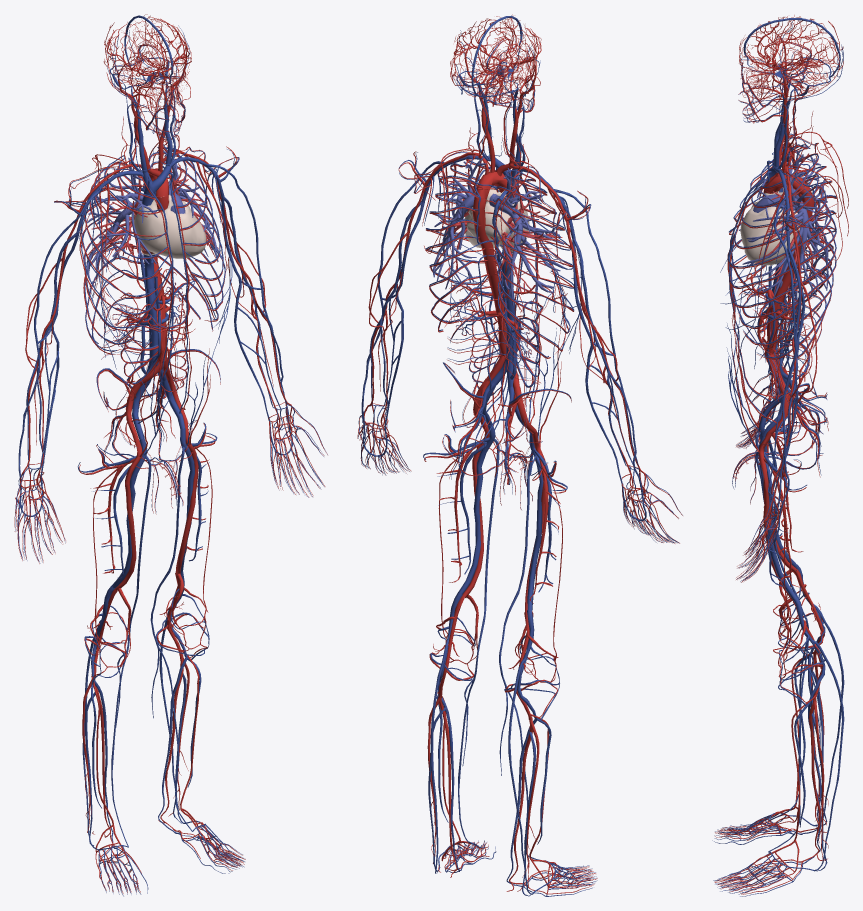
File: adult_male.cardiovascular.LOD3.glb
The picture shows the model from 3 angles, left to right: view 1: azimuth 30°, elevation 25°; view 2: azimuth 150°, elevation 25°; view 3: azimuth 270°, elevation 25°; orthographic projection. The views are drawn at different scales.
Parts seen in each view (by area): view 1: ADULT.MALE.CARDIOVASCULAR.PERICARDIUM, ADULT.MALE.CARDIOVASCULAR.RIGHT_SUPERIOR_INTERCOSTAL_VEIN, ADULT.MALE.CARDIOVASCULAR.POSTERIOR_INTERCOSTAL_ARTERIES.R, ADULT.MALE.CARDIOVASCULAR.LEFT_SUPERIOR_INTERCOSTAL_VEIN, ADULT.MALE.CARDIOVASCULAR.GREAT_SAPHENOUS_VEIN.L, ADULT.MALE.CARDIOVASCULAR.GREAT_SAPHENOUS_VEIN.R, ADULT.MALE.CARDIOVASCULAR.FEMORAL_ARTERY.R, ADULT.MALE.CARDIOVASCULAR.POSTERIOR_INTERCOSTAL_ARTERIES.L, ADULT.MALE.CARDIOVASCULAR.CEPHALIC_VEIN.R, ADULT.MALE.CARDIOVASCULAR.FEMORAL_ARTERY.L, ADULT.MALE.CARDIOVASCULAR.CEPHALIC_VEIN.L, ADULT.MALE.CARDIOVASCULAR.BASILIC_VEIN.L (+1 smaller); view 2: ADULT.MALE.CARDIOVASCULAR.POSTERIOR_INTERCOSTAL_ARTERIES.R, ADULT.MALE.CARDIOVASCULAR.RIGHT_SUPERIOR_INTERCOSTAL_VEIN, ADULT.MALE.CARDIOVASCULAR.LEFT_SUPERIOR_INTERCOSTAL_VEIN, ADULT.MALE.CARDIOVASCULAR.POSTERIOR_INTERCOSTAL_ARTERIES.L, ADULT.MALE.CARDIOVASCULAR.GREAT_SAPHENOUS_VEIN.L, ADULT.MALE.CARDIOVASCULAR.PERICARDIUM, ADULT.MALE.CARDIOVASCULAR.GREAT_SAPHENOUS_VEIN.R, ADULT.MALE.CARDIOVASCULAR.FEMORAL_VEIN.L, ADULT.MALE.CARDIOVASCULAR.FEMORAL_VEIN.R, ADULT.MALE.CARDIOVASCULAR.THORACIC_AORTA, ADULT.MALE.CARDIOVASCULAR.CEPHALIC_VEIN.R, ADULT.MALE.CARDIOVASCULAR.BASILIC_VEIN.R (+5 smaller); view 3: ADULT.MALE.CARDIOVASCULAR.LEFT_SUPERIOR_INTERCOSTAL_VEIN, ADULT.MALE.CARDIOVASCULAR.PERICARDIUM, ADULT.MALE.CARDIOVASCULAR.POSTERIOR_INTERCOSTAL_ARTERIES.L, ADULT.MALE.CARDIOVASCULAR.CEPHALIC_VEIN.L, ADULT.MALE.CARDIOVASCULAR.RIGHT_SUPERIOR_INTERCOSTAL_VEIN, ADULT.MALE.CARDIOVASCULAR.SMALL_SAPHENOUS_VEIN.L, ADULT.MALE.CARDIOVASCULAR.FEMORAL_ARTERY.L, ADULT.MALE.CARDIOVASCULAR.ABDOMINAL_AORTA, ADULT.MALE.CARDIOVASCULAR.GREAT_SAPHENOUS_VEIN.R, ADULT.MALE.CARDIOVASCULAR.SMALL_SAPHENOUS_VEIN.R, ADULT.MALE.CARDIOVASCULAR.GREAT_SAPHENOUS_VEIN.L, ADULT.MALE.CARDIOVASCULAR.POSTERIOR_INTERCOSTAL_ARTERIES.R (+22 smaller).
Boxes of the visible parts, bbox=[...] form: ADULT.MALE.CARDIOVASCULAR.PERICARDIUM: bbox=[133, 194, 206, 258]; ADULT.MALE.CARDIOVASCULAR.RIGHT_SUPERIOR_INTERCOSTAL_VEIN: bbox=[81, 155, 172, 351]; ADULT.MALE.CARDIOVASCULAR.POSTERIOR_INTERCOSTAL_ARTERIES.R: bbox=[79, 163, 169, 354]; ADULT.MALE.CARDIOVASCULAR.LEFT_SUPERIOR_INTERCOSTAL_VEIN: bbox=[144, 147, 225, 330]; ADULT.MALE.CARDIOVASCULAR.GREAT_SAPHENOUS_VEIN.L: bbox=[150, 446, 192, 831]; ADULT.MALE.CARDIOVASCULAR.GREAT_SAPHENOUS_VEIN.R: bbox=[111, 455, 151, 846]; ADULT.MALE.CARDIOVASCULAR.FEMORAL_ARTERY.R: bbox=[115, 431, 142, 590]; ADULT.MALE.CARDIOVASCULAR.POSTERIOR_INTERCOSTAL_ARTERIES.L: bbox=[149, 153, 225, 331]; ADULT.MALE.CARDIOVASCULAR.CEPHALIC_VEIN.R: bbox=[18, 187, 101, 488]; ADULT.MALE.CARDIOVASCULAR.FEMORAL_ARTERY.L: bbox=[175, 419, 198, 575]; ADULT.MALE.CARDIOVASCULAR.CEPHALIC_VEIN.L: bbox=[202, 162, 289, 421]; ADULT.MALE.CARDIOVASCULAR.BASILIC_VEIN.L: bbox=[221, 198, 269, 420]; ADULT.MALE.CARDIOVASCULAR.POSTERIOR_INTERCOSTAL_ARTERIES.R: bbox=[478, 187, 573, 358]; ADULT.MALE.CARDIOVASCULAR.RIGHT_SUPERIOR_INTERCOSTAL_VEIN: bbox=[493, 170, 574, 357]; ADULT.MALE.CARDIOVASCULAR.LEFT_SUPERIOR_INTERCOSTAL_VEIN: bbox=[425, 156, 502, 331]; ADULT.MALE.CARDIOVASCULAR.POSTERIOR_INTERCOSTAL_ARTERIES.L: bbox=[425, 177, 502, 332]; ADULT.MALE.CARDIOVASCULAR.GREAT_SAPHENOUS_VEIN.L: bbox=[458, 439, 499, 844]; ADULT.MALE.CARDIOVASCULAR.PERICARDIUM: bbox=[464, 187, 529, 253]; ADULT.MALE.CARDIOVASCULAR.GREAT_SAPHENOUS_VEIN.R: bbox=[499, 451, 539, 859]; ADULT.MALE.CARDIOVASCULAR.FEMORAL_VEIN.L: bbox=[458, 424, 495, 594]; ADULT.MALE.CARDIOVASCULAR.FEMORAL_VEIN.R: bbox=[527, 434, 543, 610]; ADULT.MALE.CARDIOVASCULAR.THORACIC_AORTA: bbox=[472, 197, 497, 275]; ADULT.MALE.CARDIOVASCULAR.CEPHALIC_VEIN.R: bbox=[554, 189, 642, 496]; ADULT.MALE.CARDIOVASCULAR.BASILIC_VEIN.R: bbox=[572, 238, 622, 483]; ADULT.MALE.CARDIOVASCULAR.LEFT_SUPERIOR_INTERCOSTAL_VEIN: bbox=[729, 163, 836, 358]; ADULT.MALE.CARDIOVASCULAR.PERICARDIUM: bbox=[740, 190, 801, 265]; ADULT.MALE.CARDIOVASCULAR.POSTERIOR_INTERCOSTAL_ARTERIES.L: bbox=[728, 175, 836, 359]; ADULT.MALE.CARDIOVASCULAR.CEPHALIC_VEIN.L: bbox=[774, 197, 796, 518]; ADULT.MALE.CARDIOVASCULAR.RIGHT_SUPERIOR_INTERCOSTAL_VEIN: bbox=[729, 144, 836, 304]; ADULT.MALE.CARDIOVASCULAR.SMALL_SAPHENOUS_VEIN.L: bbox=[803, 640, 844, 871]; ADULT.MALE.CARDIOVASCULAR.FEMORAL_ARTERY.L: bbox=[759, 430, 793, 601]; ADULT.MALE.CARDIOVASCULAR.ABDOMINAL_AORTA: bbox=[764, 266, 797, 354]; ADULT.MALE.CARDIOVASCULAR.GREAT_SAPHENOUS_VEIN.R: bbox=[755, 432, 820, 820]; ADULT.MALE.CARDIOVASCULAR.SMALL_SAPHENOUS_VEIN.R: bbox=[803, 604, 844, 826]; ADULT.MALE.CARDIOVASCULAR.GREAT_SAPHENOUS_VEIN.L: bbox=[755, 452, 820, 851]; ADULT.MALE.CARDIOVASCULAR.POSTERIOR_INTERCOSTAL_ARTERIES.R: bbox=[729, 153, 836, 308].
Bounding box in the file's own units: 0.664 × 1.7 × 0.2489.
